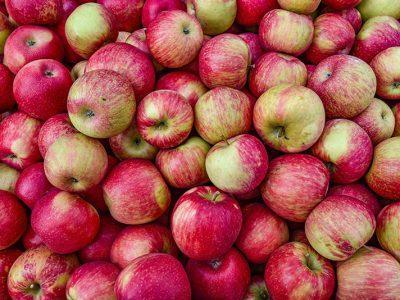apple: (259, 152, 330, 223), (28, 189, 100, 256), (101, 158, 170, 226), (65, 70, 135, 137), (262, 241, 336, 299), (11, 59, 73, 120), (332, 245, 400, 299), (145, 10, 204, 70), (44, 134, 108, 189), (135, 90, 193, 146), (197, 33, 254, 89), (196, 87, 252, 141), (110, 221, 175, 267), (4, 24, 64, 72), (364, 136, 400, 202), (368, 45, 400, 101), (108, 126, 156, 161), (190, 1, 236, 34), (235, 1, 279, 27), (355, 1, 399, 20)
